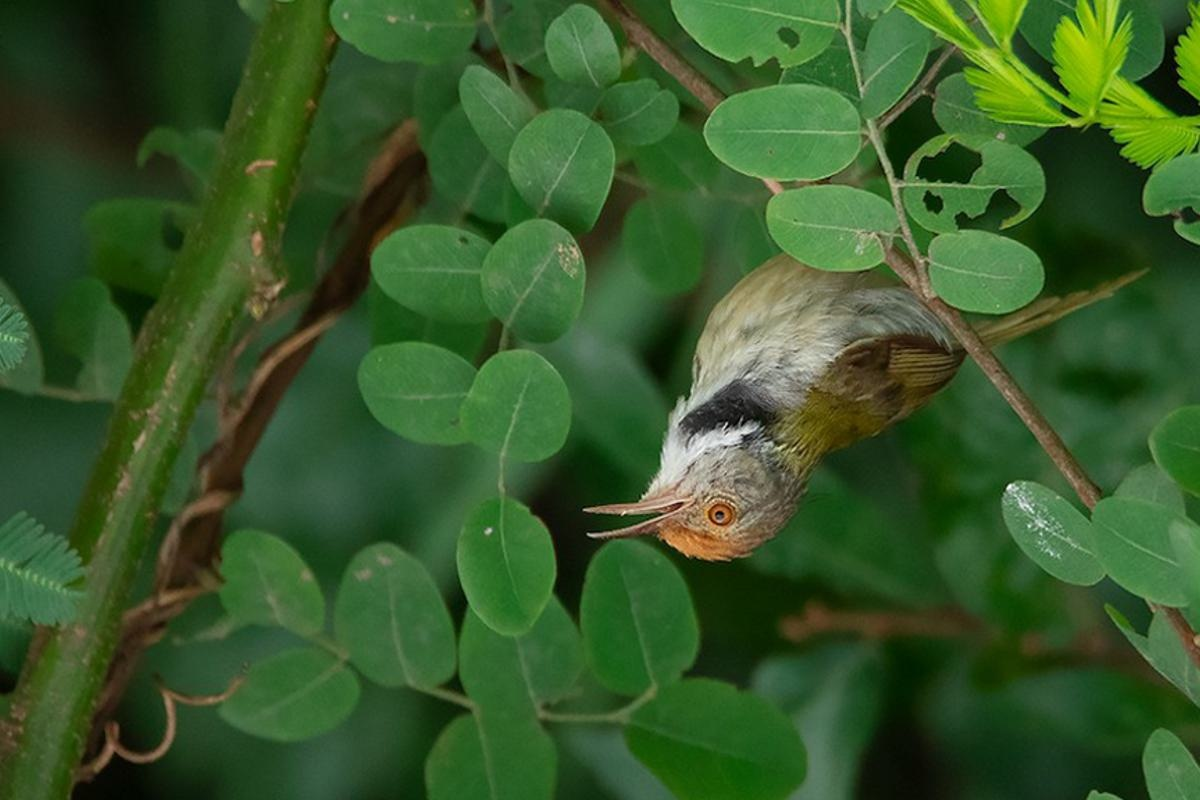tailorbird: (571, 218, 1151, 592)
